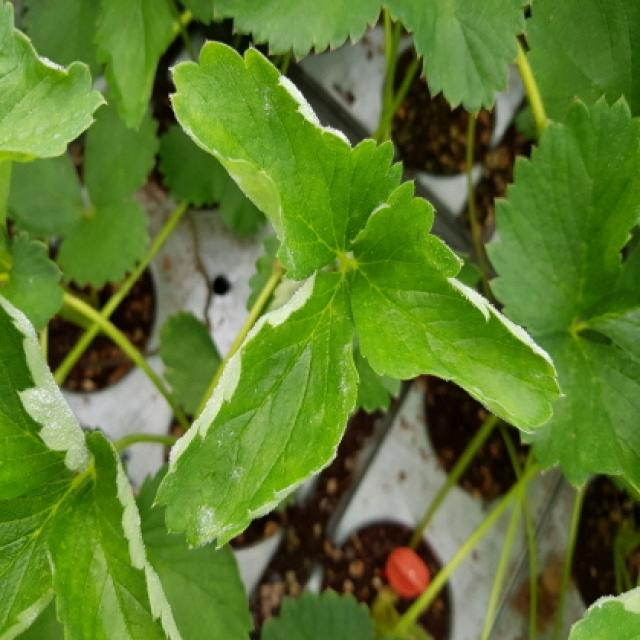Powdery Mildew Leaf: (152, 257, 360, 554), (170, 38, 406, 282), (346, 178, 567, 431), (44, 428, 182, 638), (2, 289, 89, 524), (2, 0, 107, 164)
